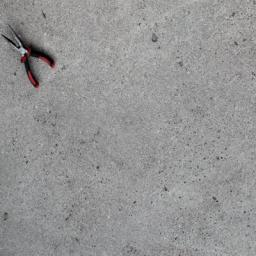FOD: (2, 24, 57, 91)
